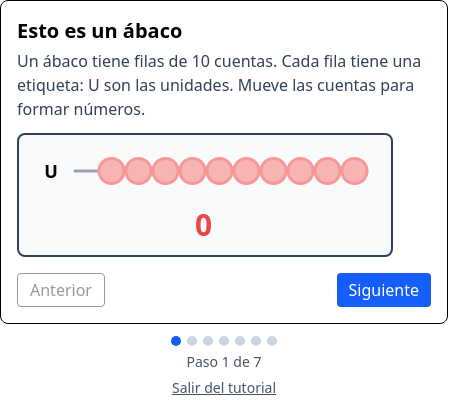
Test: AbacusTutorial › en paso de ejercicio (3): Siguiente deshabilitado hasta acertar
Step 1. Click the button "Siguiente" → (384, 290), box top-left (336, 273), bottom-right (431, 307)
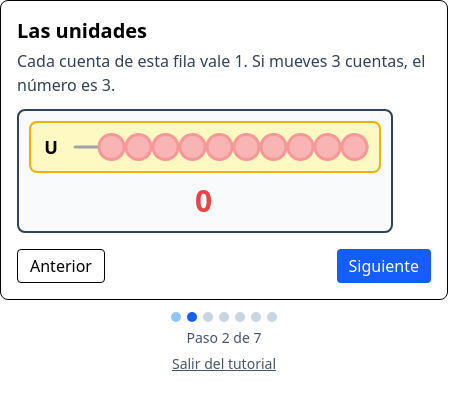
Step 2. Click the button "Siguiente" → (384, 266), box top-left (336, 249), bottom-right (431, 283)
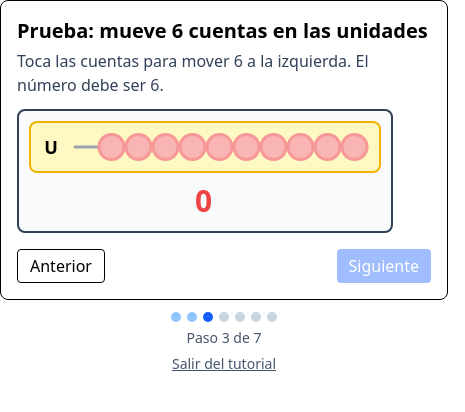
Result: the button "Siguiente" is disabled at top-left (336, 249), bottom-right (431, 283)
